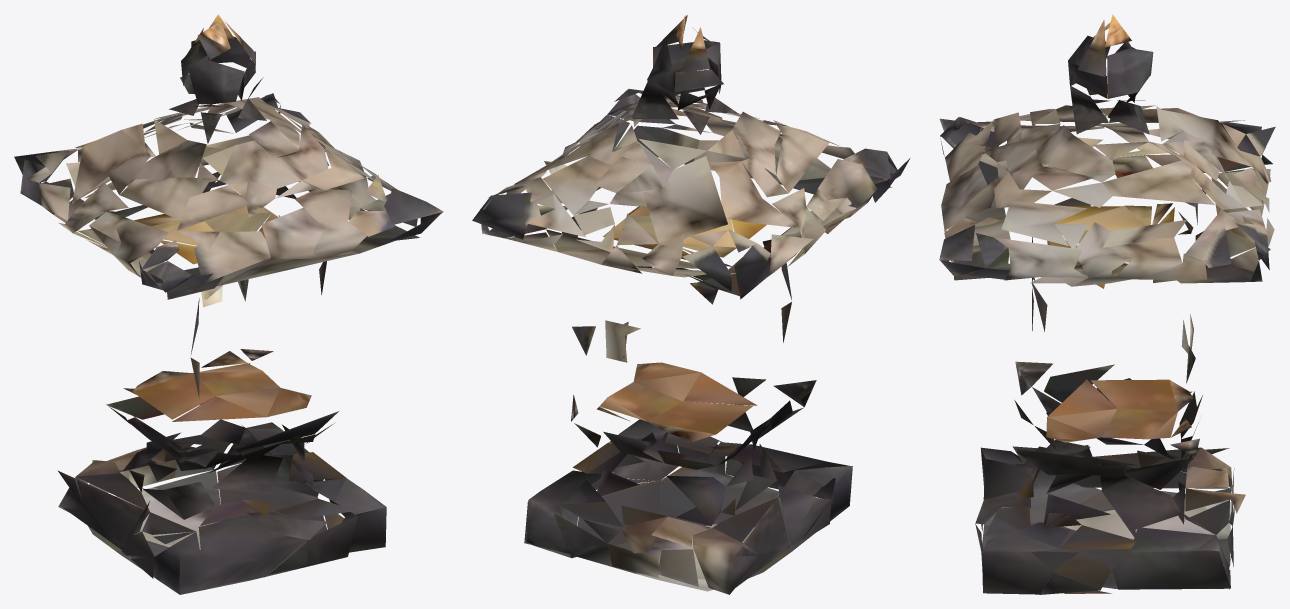
Rendered from Stone_Lantern_town.glb.
The picture shows the model from 3 angles, left to right: view 1: azimuth 30°, elevation 25°; view 2: azimuth 150°, elevation 25°; view 3: azimuth 270°, elevation 25°; orthographic projection. The views are drawn at different scales.
Parts seen in each view (by area): view 1: Stone_Lantern; view 2: Stone_Lantern; view 3: Stone_Lantern.
Boxes of the visible parts, <box> form: Stone_Lantern: <box>14,14,443,594</box>; Stone_Lantern: <box>472,15,910,594</box>; Stone_Lantern: <box>939,14,1275,594</box>.
Size of the model in its own units: 1.15 by 1.99 by 1.15.
Materials: 1 (1 with a texture image).
